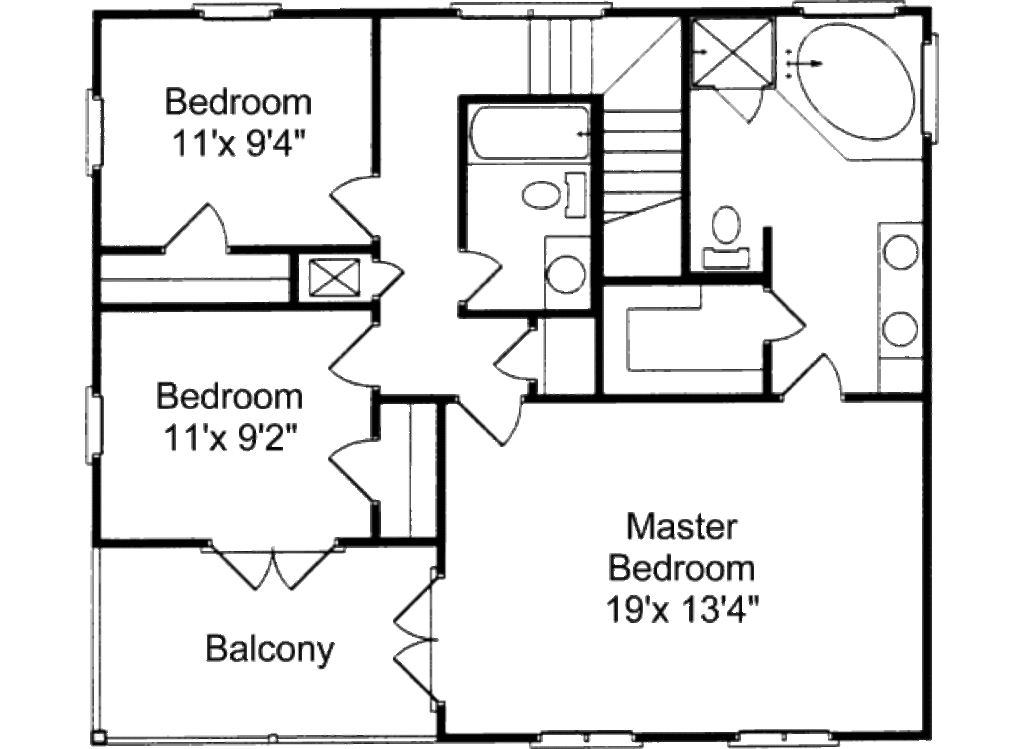coffee_table: (692, 15, 775, 91), (304, 257, 362, 300)
door: (207, 539, 338, 593), (392, 574, 437, 700), (158, 202, 230, 258), (454, 395, 523, 453), (321, 437, 376, 504), (328, 170, 379, 240), (328, 320, 379, 387), (453, 245, 501, 305), (788, 352, 843, 401), (765, 287, 807, 350), (491, 329, 535, 386), (716, 85, 767, 128)
large_sink: (700, 200, 755, 271), (523, 174, 585, 222)
small_sink: (876, 220, 922, 361), (539, 233, 599, 317)
stairs: (531, 11, 680, 176)
tub: (787, 21, 914, 144), (466, 104, 588, 167)
windows: (81, 88, 107, 181), (82, 385, 110, 469)
